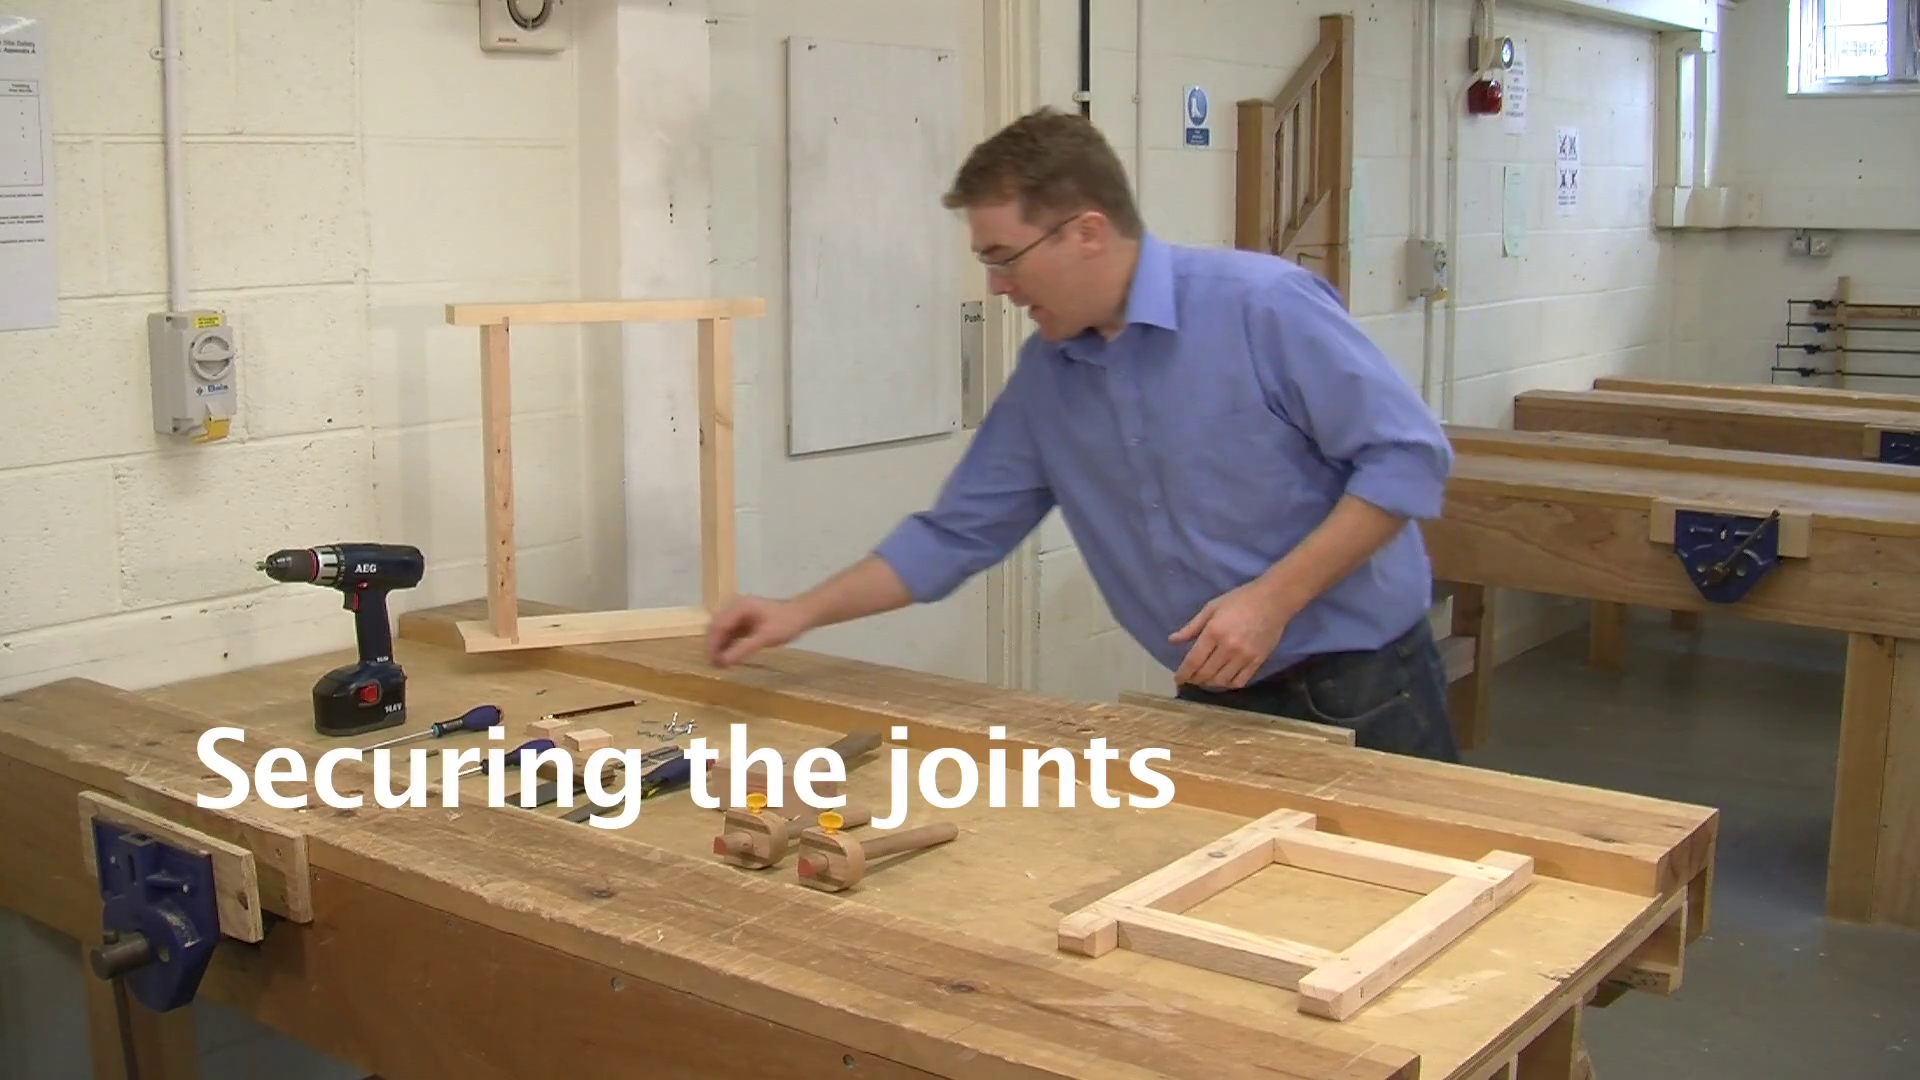person: (706, 105, 1467, 767)
